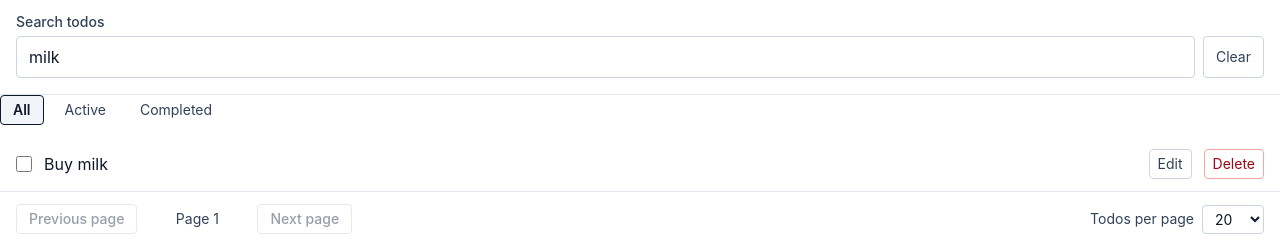
Test case: TodoFlows search › shows no counts on the status links while a search is committed, and shows them again after Clear
Expected: the link "All" is shown, [0,95,44,125]
Expected: the link "Active" is shown, [64,101,106,118]
Click the button with aria-label "Clear search". click: (1233, 57)
box: [1203,36,1264,78]
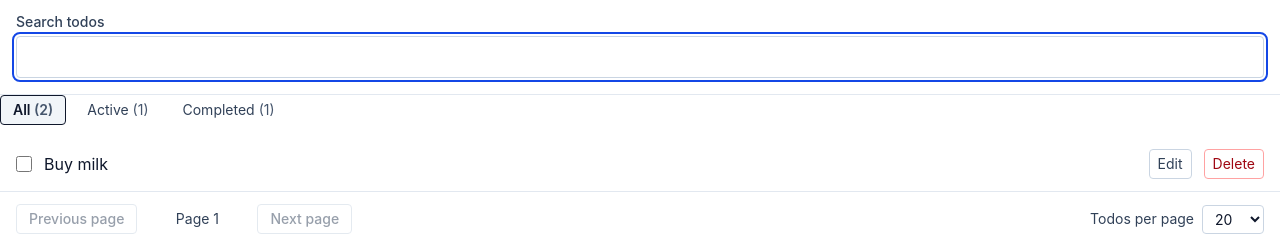
Now the link "All (2)" is shown, box [0,95,66,125]
Now the link "Active (1)" is shown, box [87,101,149,118]
Now the link "Completed (1)" is shown, box [182,101,274,118]
